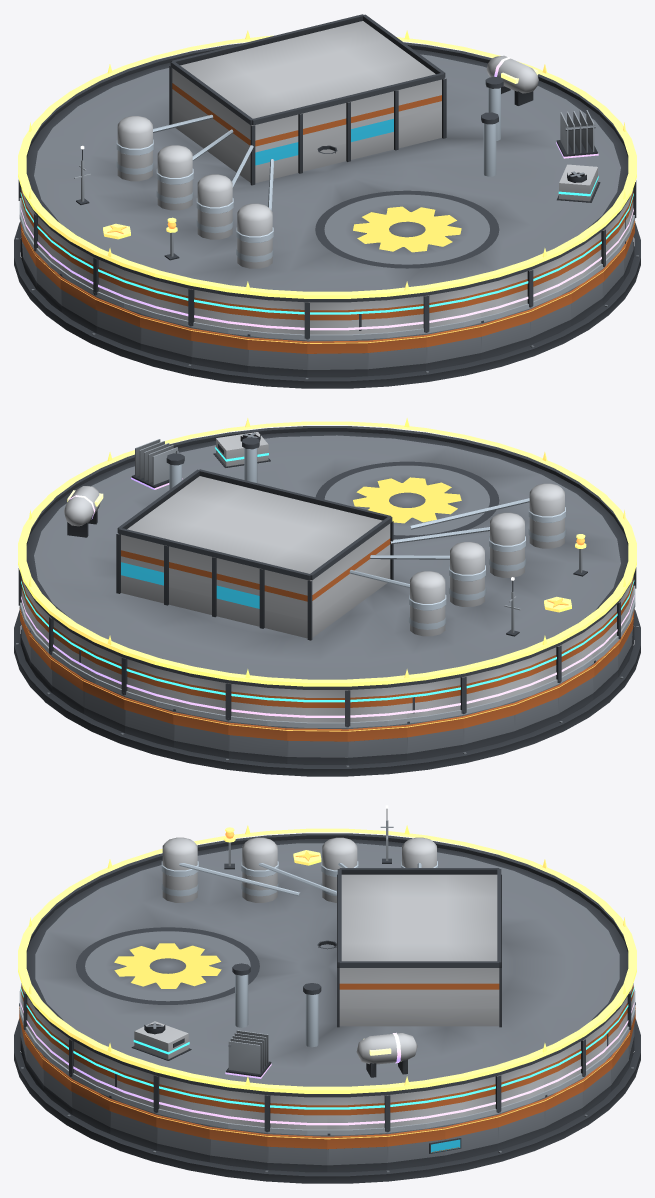
Rendered from superconductor_lab_l.glb.
3 views of the same model, one above another, from view 1: azimuth 30°, elevation 25°; view 2: azimuth 150°, elevation 25°; view 3: azimuth 270°, elevation 25° (orthographic).
Visible parts, largest first — view 1: Roof, Base, L4, Wall_21, Wall_20, Wall_22, Wall_19, Wall_23, Wall_18, Wall_24, Upper_21, Upper_20 (+24 smaller); view 2: Roof, Base, L4, Wall_11, Wall_10, Wall_09, Wall_12, Wall_08, Wall_13, Wall_07, Upper_10, Upper_11 (+25 smaller); view 3: Roof, Base, L4, Wall_00, Wall_31, Wall_30, Wall_01, Wall_29, Wall_02, Upper_00, Upper_31, Wall_28 (+25 smaller).
Part boxes in pixels (left/top/right/bottom): Roof: left=25, top=14, right=629, bottom=302; Base: left=14, top=222, right=640, bottom=388; L4: left=486, top=55, right=598, bottom=158; Wall_21: left=307, top=339, right=367, bottom=377; Wall_20: left=247, top=334, right=307, bottom=377; Wall_22: left=367, top=333, right=426, bottom=375; Wall_19: left=191, top=327, right=247, bottom=372; Wall_23: left=426, top=323, right=481, bottom=370; Wall_18: left=139, top=314, right=191, bottom=363; Wall_24: left=481, top=308, right=530, bottom=359; Upper_21: left=307, top=301, right=367, bottom=338; Upper_20: left=248, top=298, right=307, bottom=338; Roof: left=25, top=426, right=629, bottom=689; Base: left=14, top=609, right=640, bottom=776; L4: left=64, top=439, right=182, bottom=537; Wall_11: left=347, top=723, right=407, bottom=764; Wall_10: left=287, top=727, right=347, bottom=764; Wall_09: left=228, top=721, right=287, bottom=763; Wall_12: left=407, top=715, right=463, bottom=760; Wall_08: left=173, top=709, right=228, bottom=758; Wall_13: left=463, top=701, right=515, bottom=751; Wall_07: left=124, top=696, right=173, bottom=747; Upper_10: left=287, top=689, right=347, bottom=726; Upper_11: left=347, top=685, right=406, bottom=726; Roof: left=25, top=833, right=629, bottom=1097; Base: left=14, top=1019, right=640, bottom=1183; L4: left=225, top=1030, right=417, bottom=1078; Wall_00: left=327, top=1133, right=387, bottom=1172; Wall_31: left=267, top=1133, right=327, bottom=1172; Wall_30: left=209, top=1125, right=267, bottom=1169; Wall_01: left=387, top=1125, right=445, bottom=1169; Wall_29: left=156, top=1114, right=209, bottom=1162; Wall_02: left=445, top=1114, right=498, bottom=1162; Upper_00: left=327, top=1095, right=387, bottom=1131; Upper_31: left=267, top=1095, right=327, bottom=1131; Wall_28: left=109, top=1095, right=156, bottom=1150.
Size of the model in its own units: 18.96 by 4.96 by 18.96.
